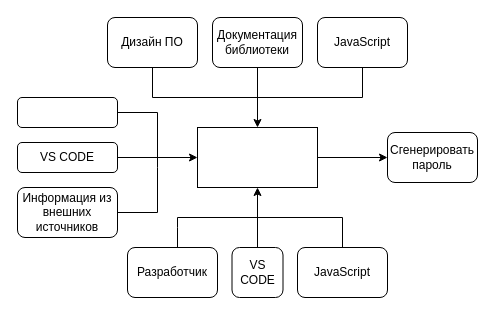
This 495x315 diagram has some shape labels left out. The shapes that lost their labels are listed below. From the top down, each one's centre as x and y in pixels, then its label:
(67,112): ОПЫТ
(257,157): Генератор паролей
